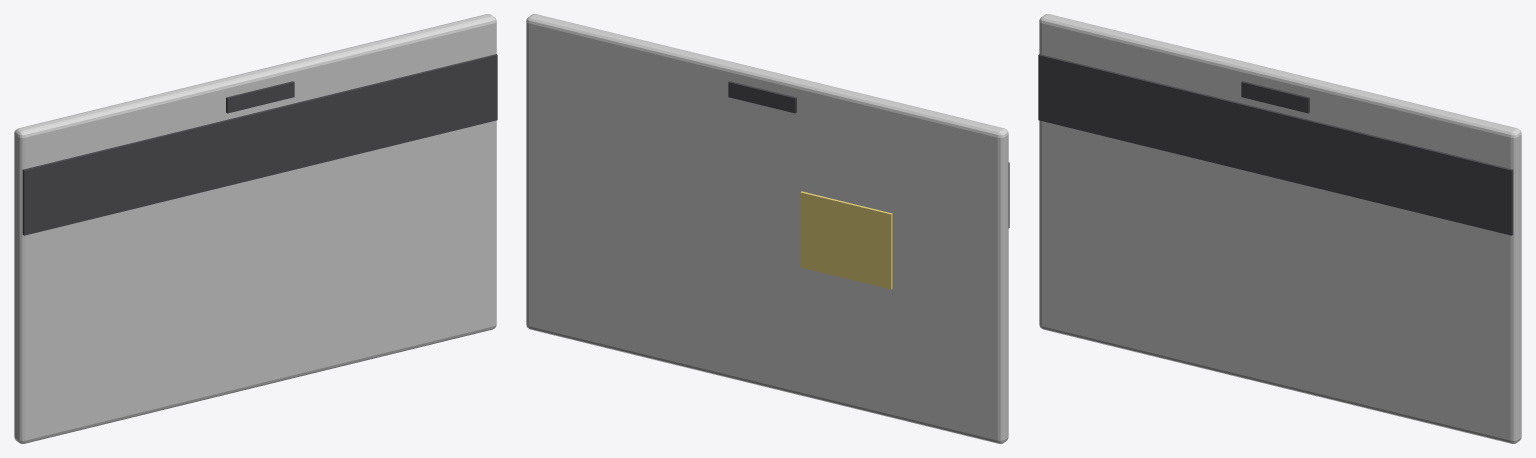
File: Access_Card.fbx
3 renders of one model, left to right at view 1: azimuth 30°, elevation 25°; view 2: azimuth 150°, elevation 25°; view 3: azimuth 330°, elevation 25°, orthographic.
Parts seen in each view (by area): view 1: Card_Body, Magnetic_Stripe, Lanyard_Slot; view 2: Card_Body, Chip_Contacts, Lanyard_Slot; view 3: Card_Body, Magnetic_Stripe, Lanyard_Slot.
Part boxes in pixels (<box>): Card_Body: <box>14,14,496,443</box>; Magnetic_Stripe: <box>22,54,497,235</box>; Lanyard_Slot: <box>226,81,294,113</box>; Card_Body: <box>526,14,1008,443</box>; Chip_Contacts: <box>800,191,892,289</box>; Lanyard_Slot: <box>728,81,796,113</box>; Card_Body: <box>1039,14,1521,443</box>; Magnetic_Stripe: <box>1038,54,1513,235</box>; Lanyard_Slot: <box>1241,81,1309,113</box>.
Size of the model in its own units: 0.2 by 0.125 by 0.008.
